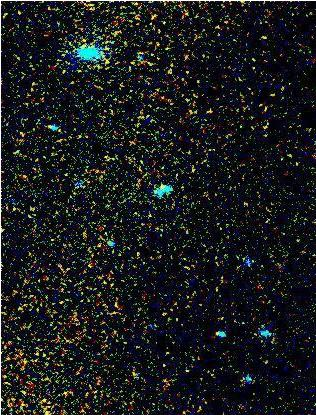star: (203, 316, 233, 346)
